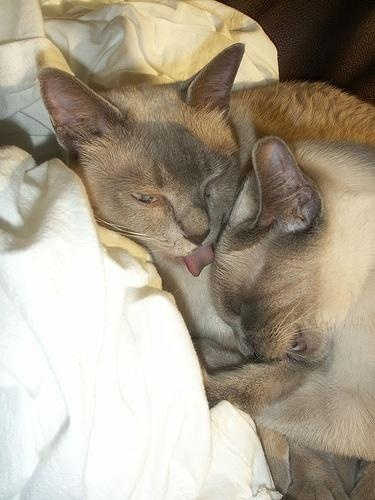cat: (38, 43, 375, 466), (213, 138, 375, 465)
